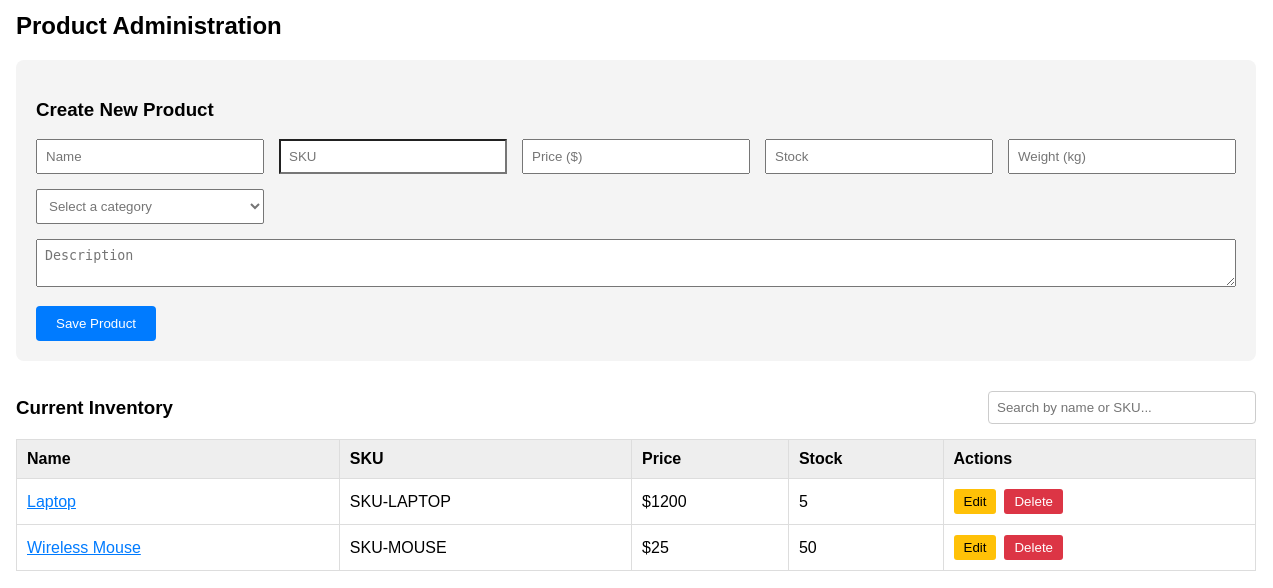
Scenario: ProductAdmin Component › filters products table when typing in the search input
Expected: the text "Laptop" is shown, [27,493,76,510]
Type "Mouse" into the field with placeholder "Search by name or SKU...".
click(1122, 408); type("Mouse")  # box [988,391,1256,424]
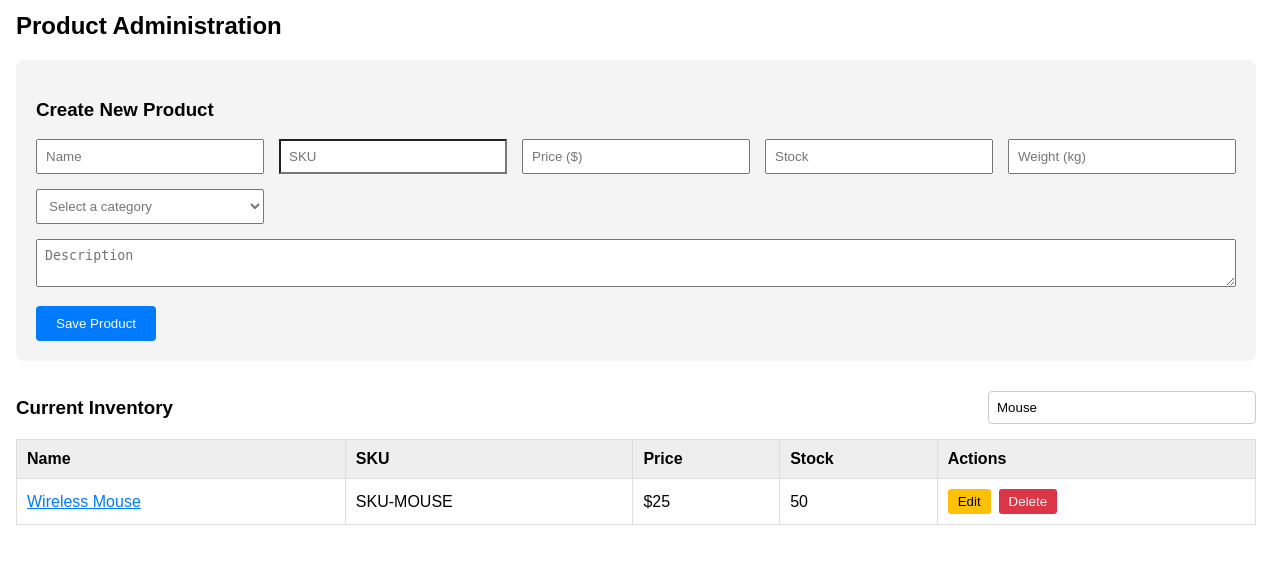
Expected: the text "Wireless Mouse" is shown, [27,493,141,510]
Expected: the text "Laptop" is gone
